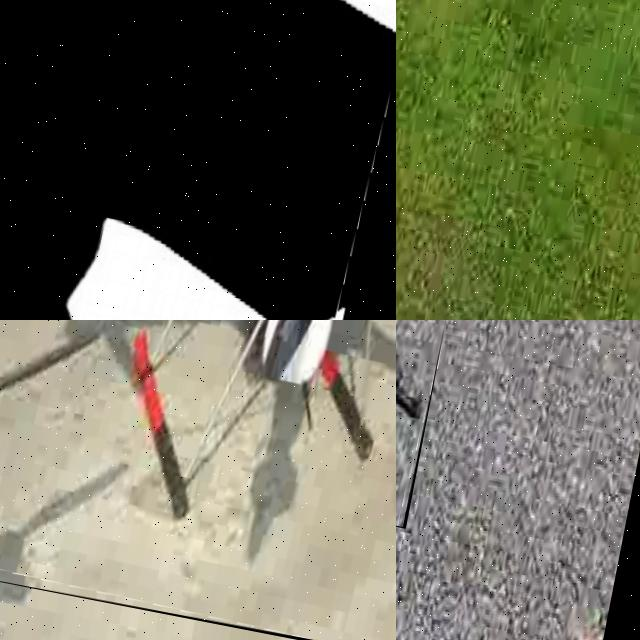0: (0, 320, 396, 640), (396, 320, 446, 528)
drone: (0, 0, 396, 320)
